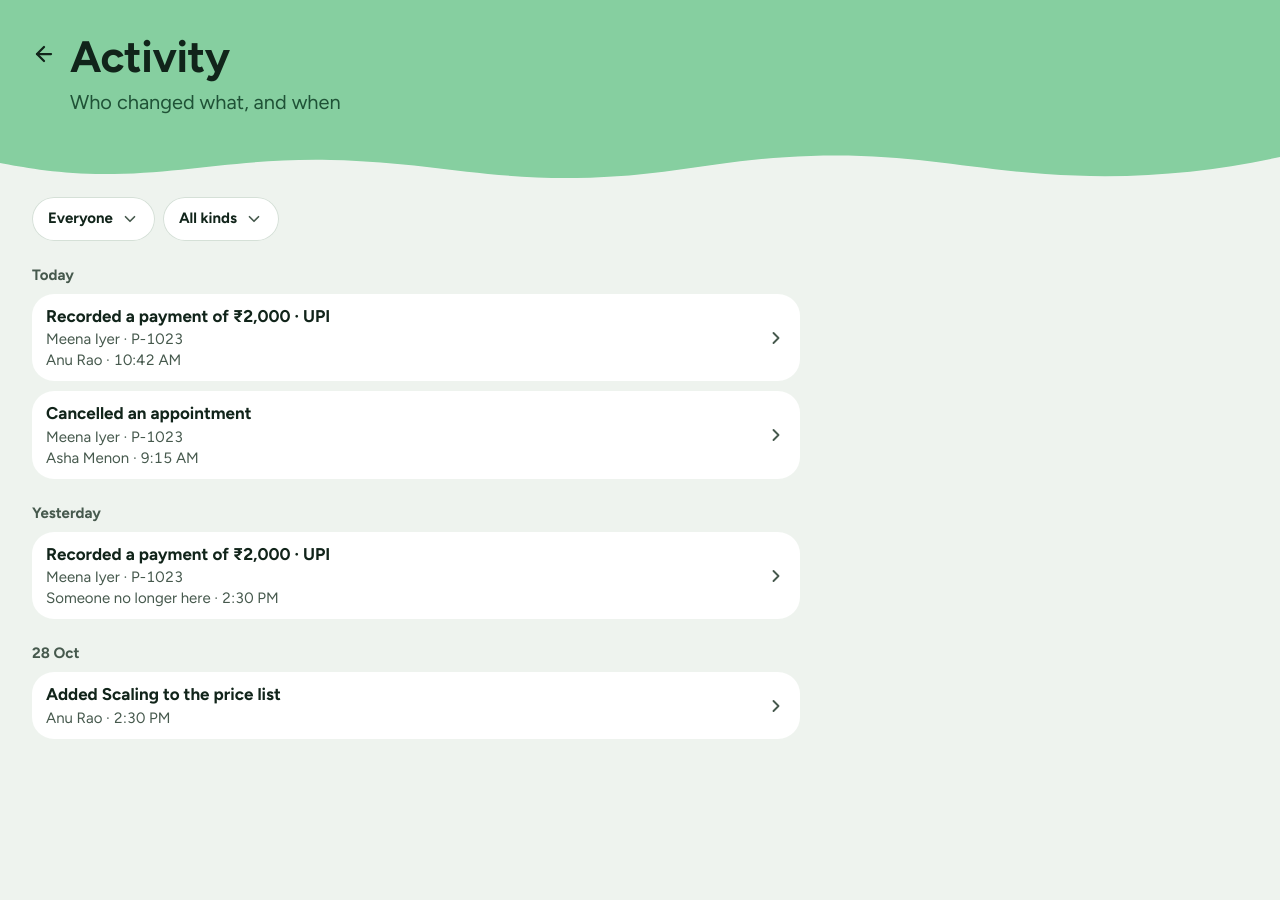
Scenario: ActivityLog (plan §19; D387 – D390) › opens a row whole, and closes it again
Click the button "Recorded a payment of ₹2,000 · UPI" below "Today" at (188, 316), box [46,304,754,329]
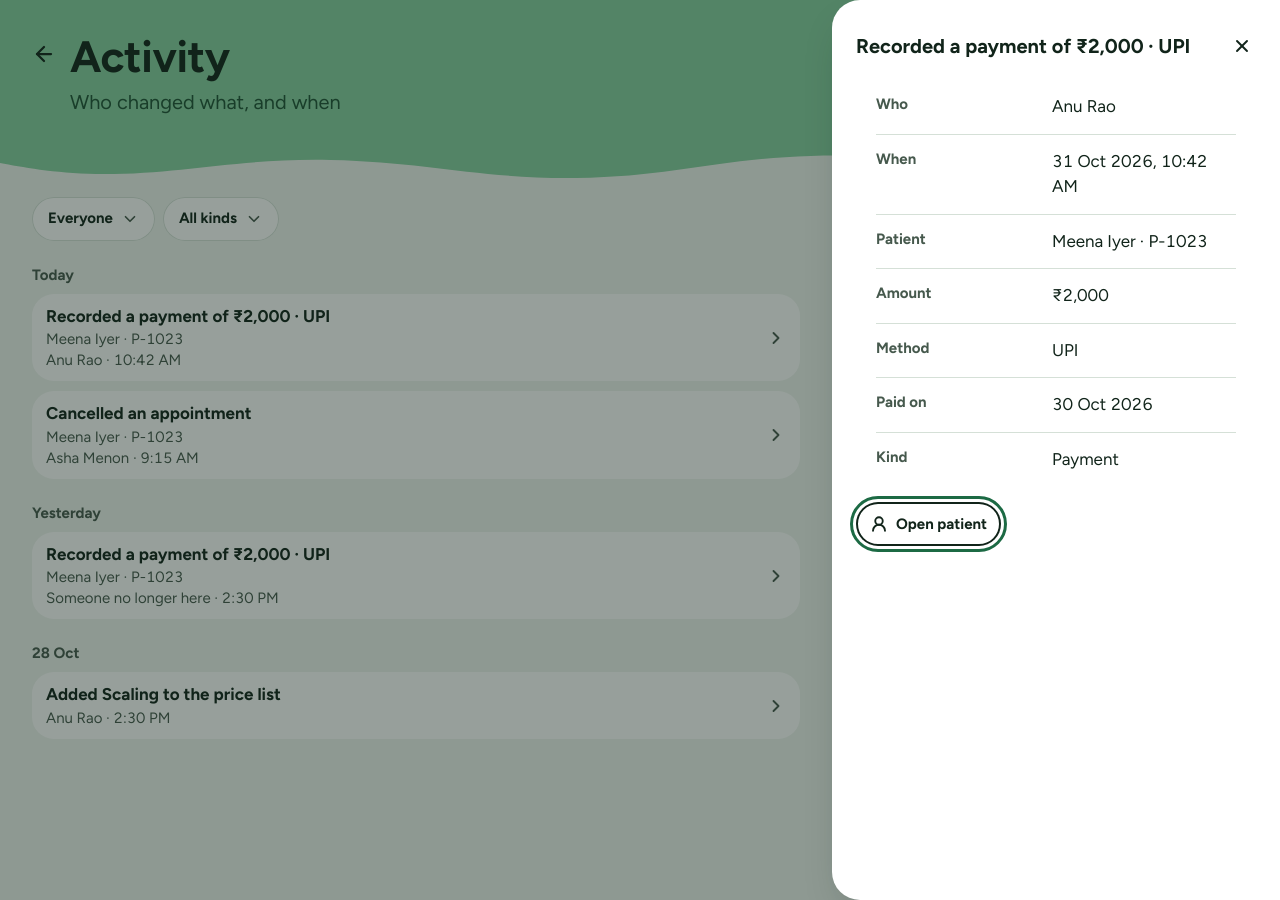
Click the button named "Close" at (1242, 46), box [1220,24,1264,68]
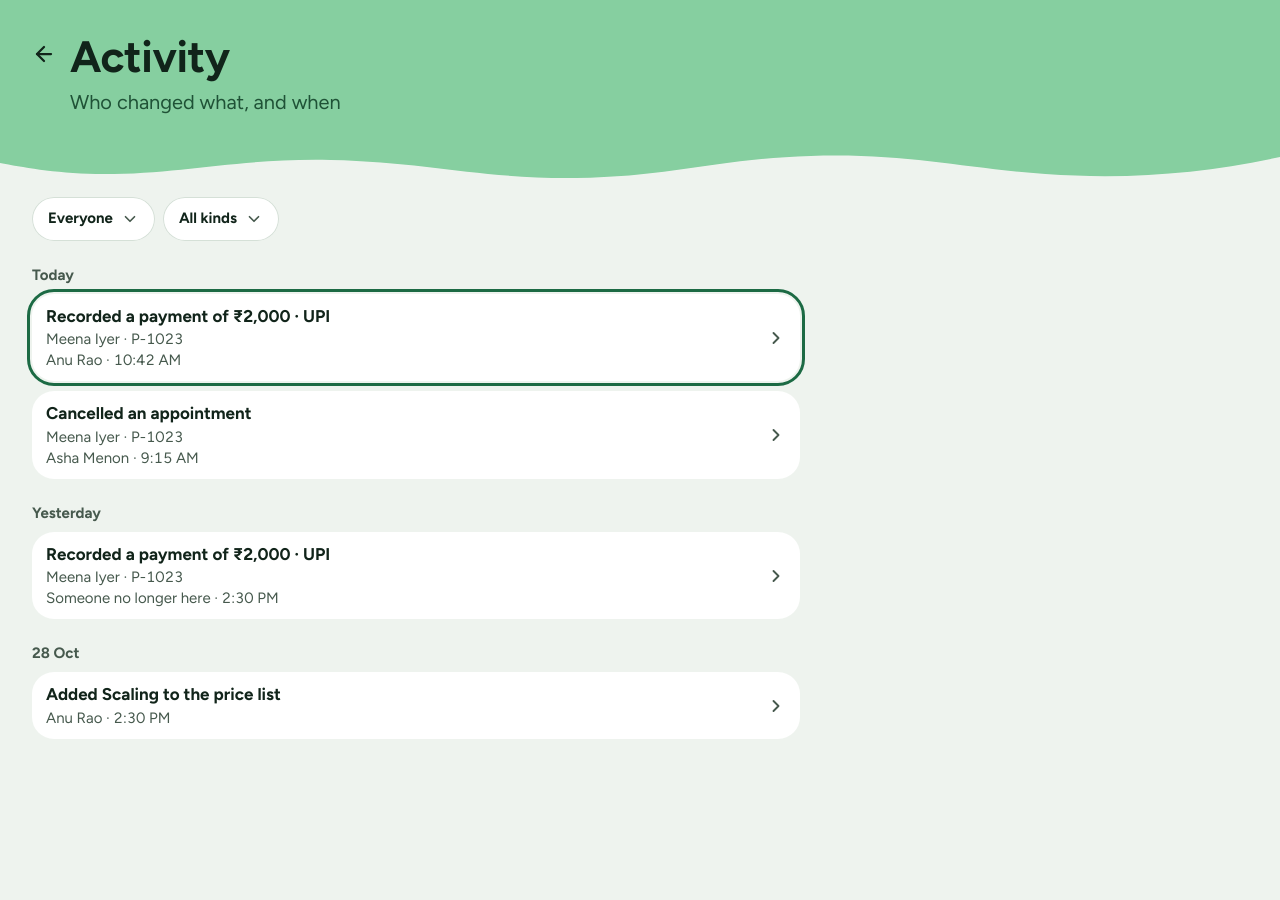
Now the dialog is gone
